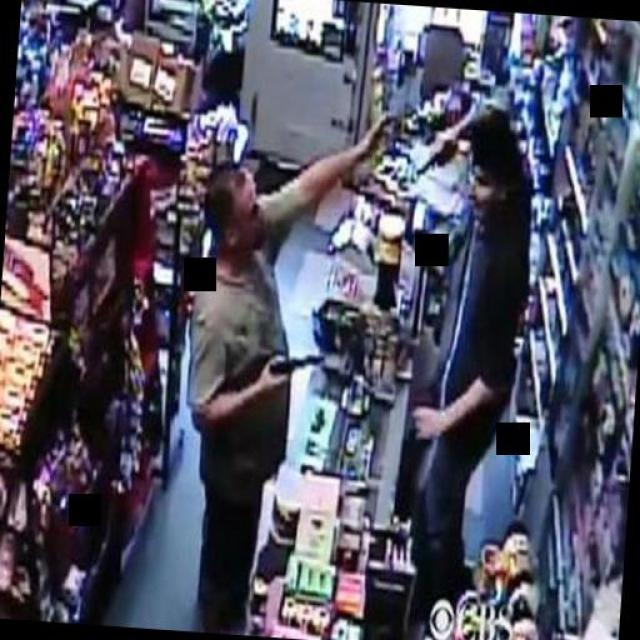gun: (265, 345, 329, 401), (415, 121, 456, 184)
